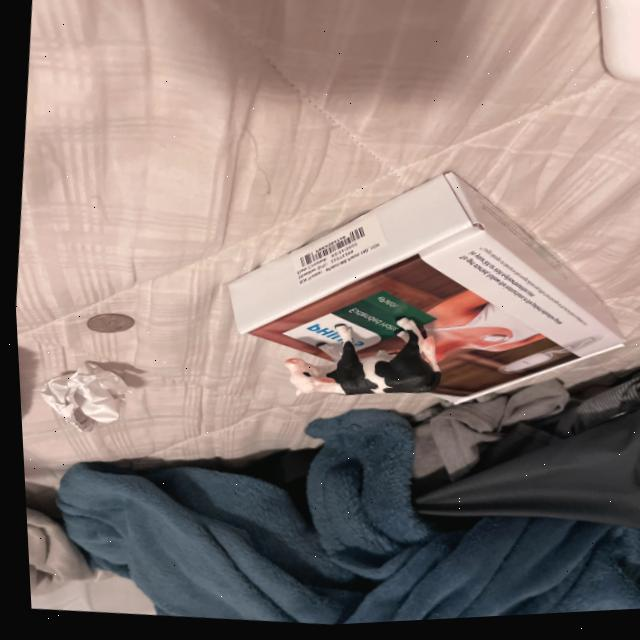cow: (279, 320, 436, 400)
